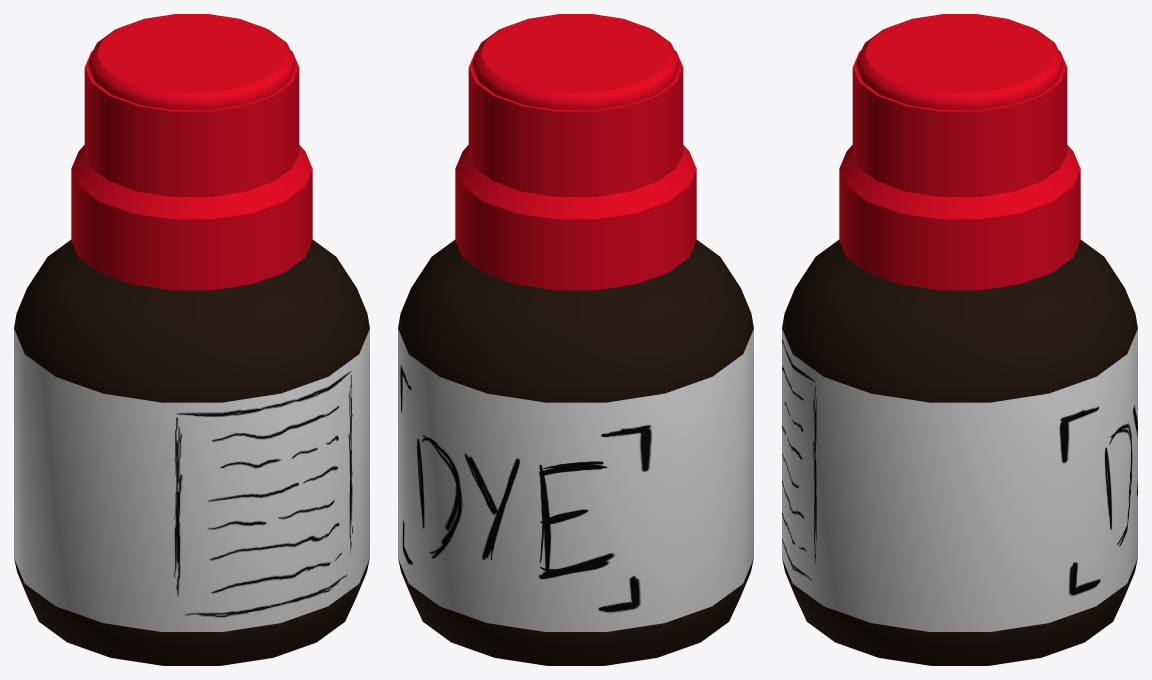
File: coranteVermelho.fbx
3 renders of one model, left to right at view 1: azimuth 30°, elevation 25°; view 2: azimuth 150°, elevation 25°; view 3: azimuth 270°, elevation 25°, orthographic.
Parts seen in each view (by area): view 1: Corante, Tampa; view 2: Corante, Tampa; view 3: Corante, Tampa.
Part boxes in pixels (x1,y1,x2,y2): Corante: (14,240,369,665); Tampa: (71,14,312,290); Corante: (398,240,753,665); Tampa: (455,14,696,290); Corante: (782,240,1137,665); Tampa: (839,14,1080,290).
Bounding box in the file's own units: 215 × 369 × 218.
